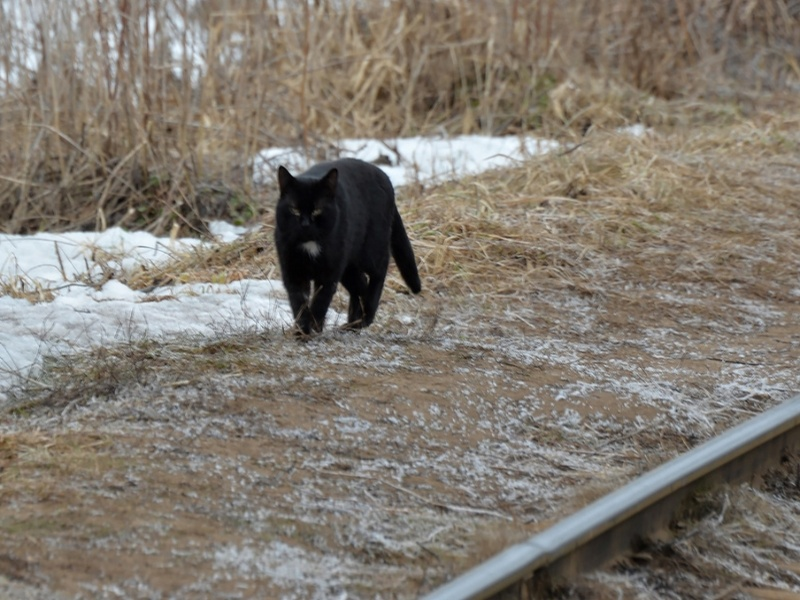cat: (268, 152, 427, 335)
